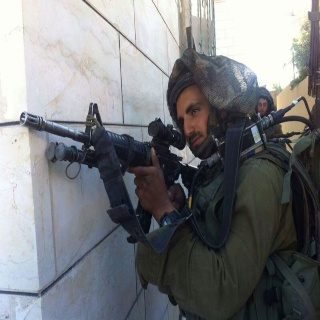rifle: (11, 101, 204, 237)
